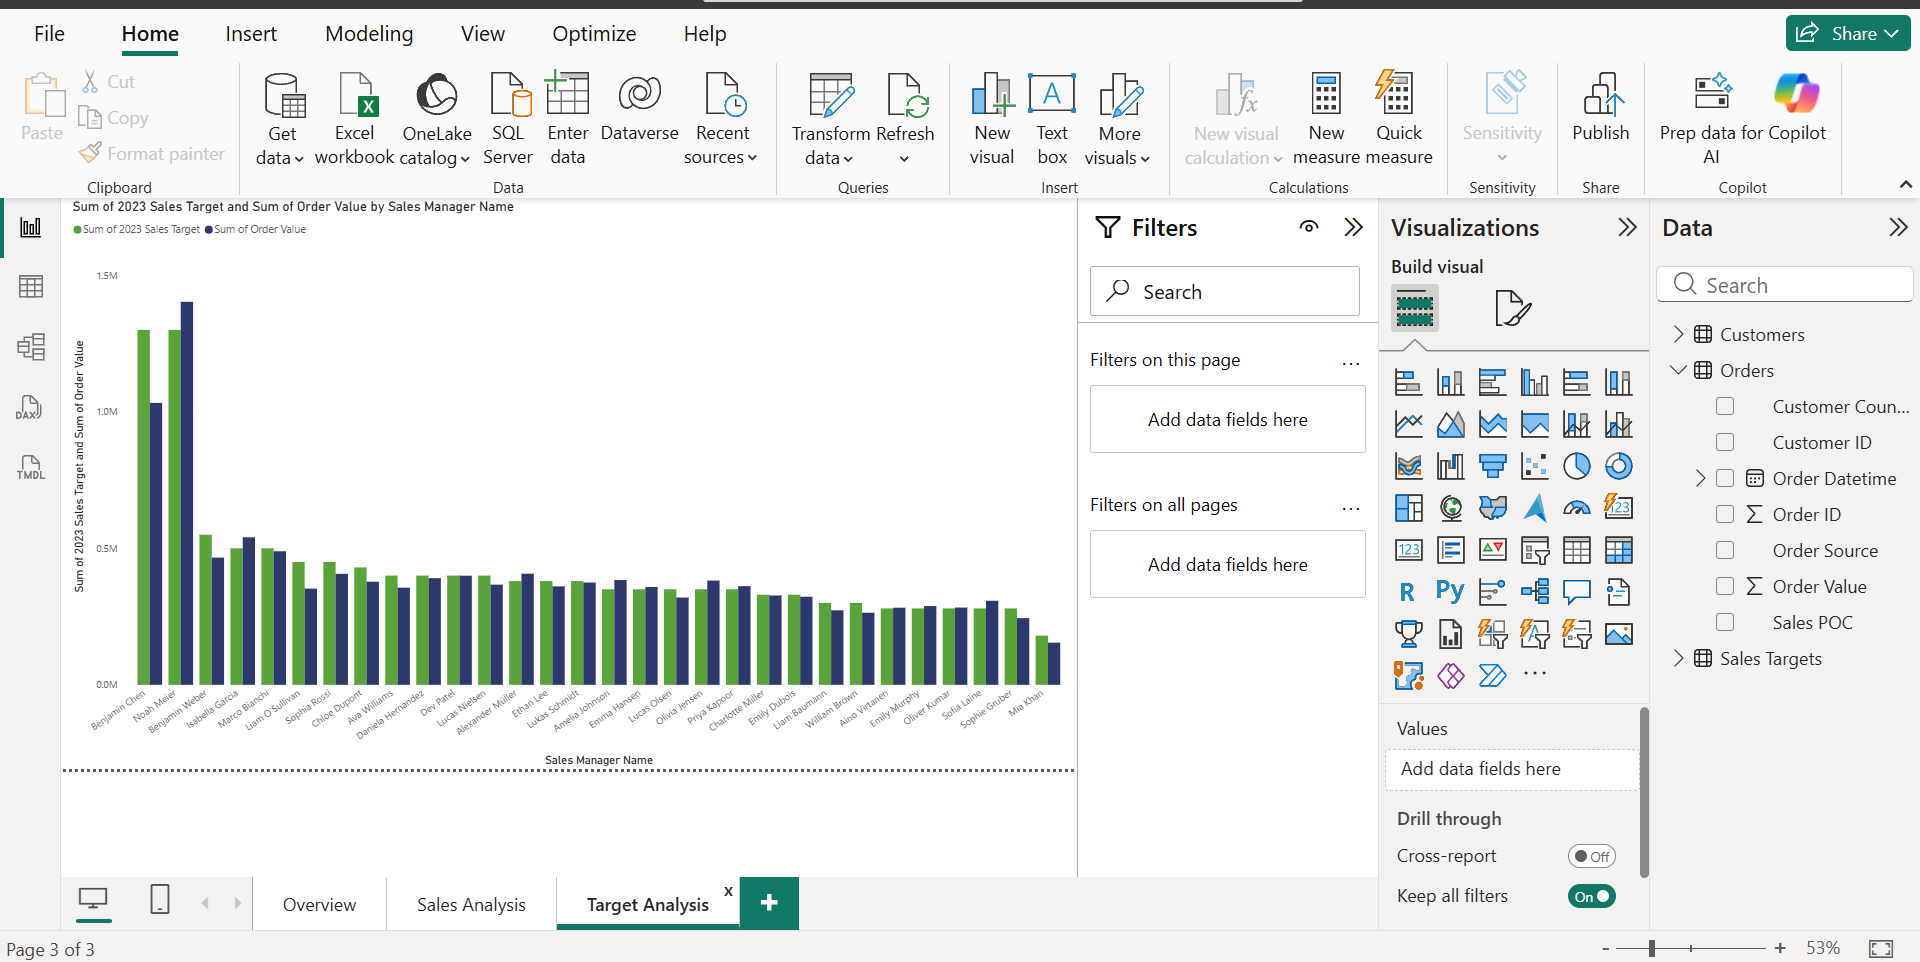

What the dashboard file says about the page in this screenshot:
{"tool":"powerbi","page":{"name":"Target Analysis","canvas":[1280,720],"ordinal":2},"visuals":[{"type":"clusteredColumnChart","fields":{"Category":["Sales Targets.Sales Manager Name"],"Y":["Sum(Sales Targets.2023 Sales Target)","Sum(Orders.Order Value)"]},"box":[9.4,0,1269.9,720],"z":0}]}

Visuals, with their boxes on the page's 1280x720 design canvas (x1, y1, x2, y2). These are canvas units, not pixel positions in the 1920x962 screenshot, which may show the page scaled, cropped or inside an application window:
clusteredColumnChart - Sales Targets.Sales Manager Name x Sum(Sales Targets.2023 Sales Target): 9/0/1279/720
